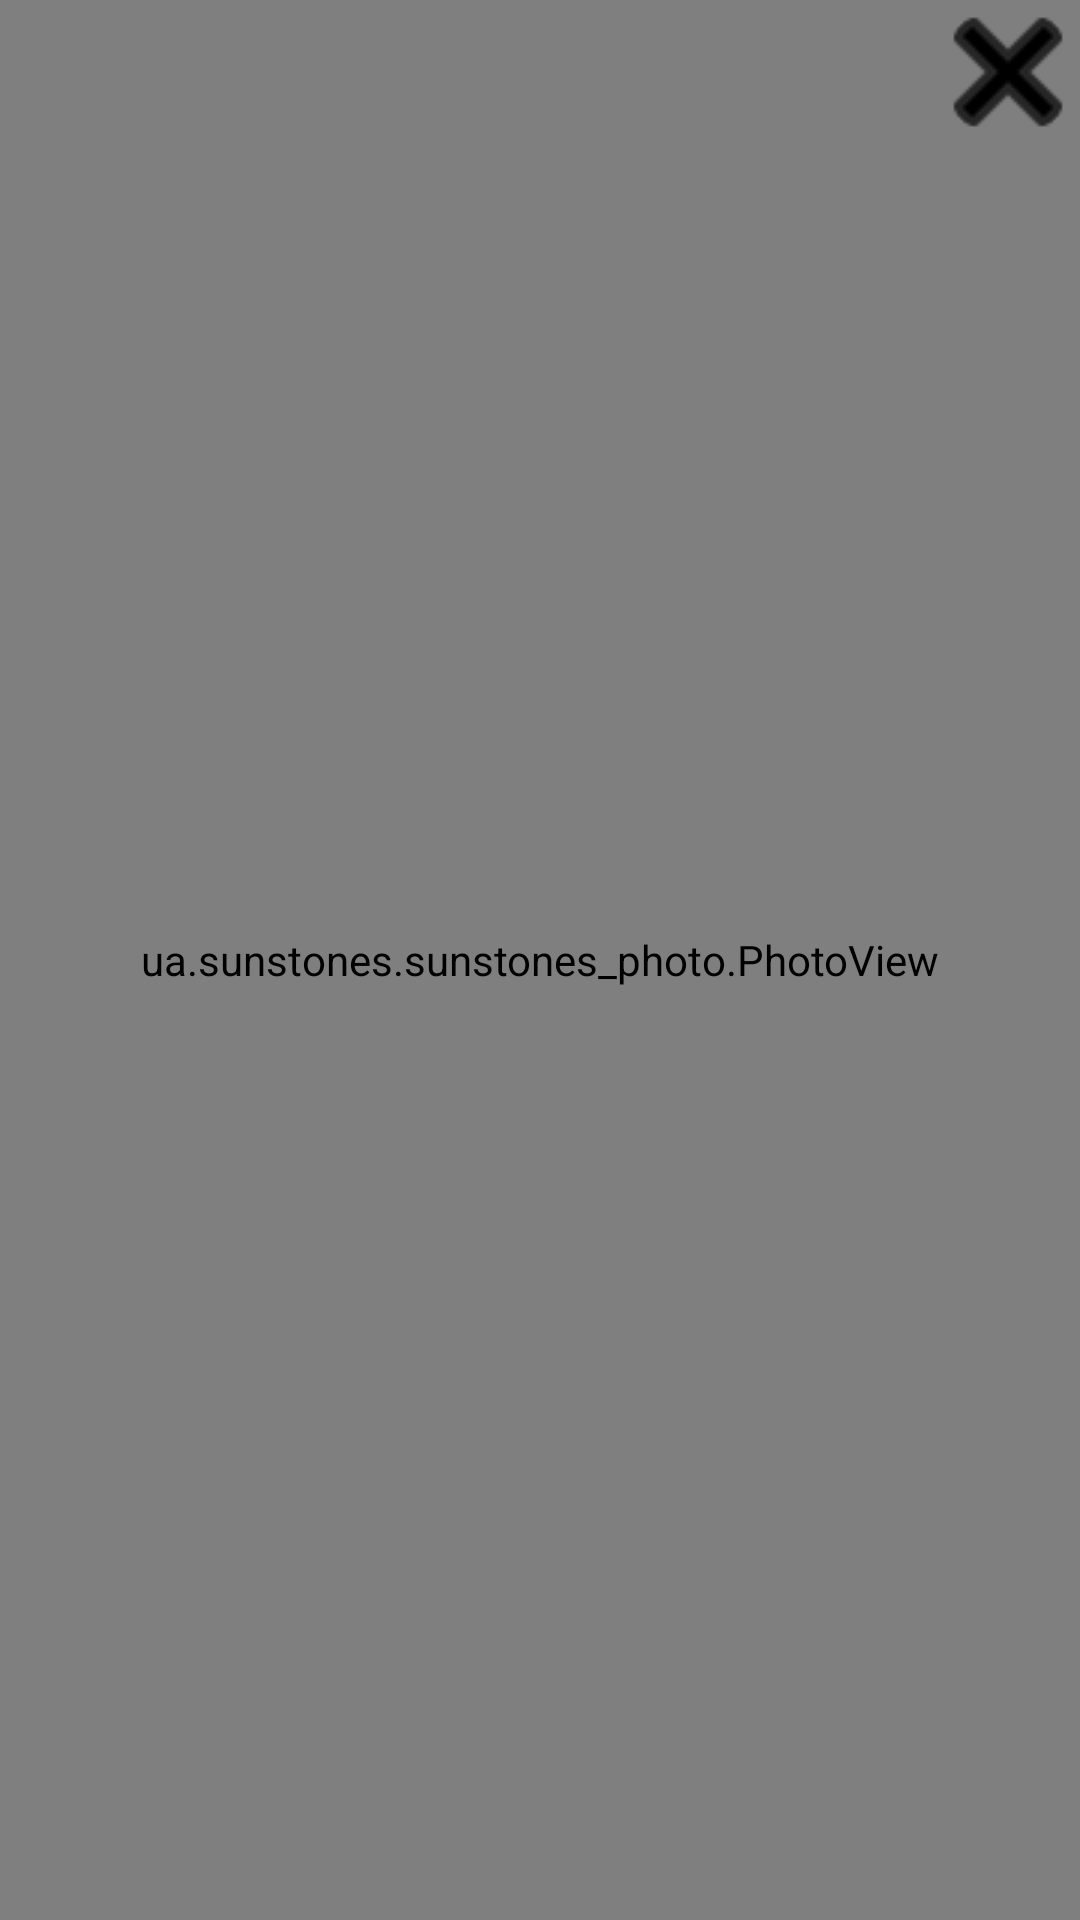

Screen size 1080x1920. Icon name, then its box in pixels as rect(x1, y1, x2, y2):
close: rect(953, 17, 1063, 127)
